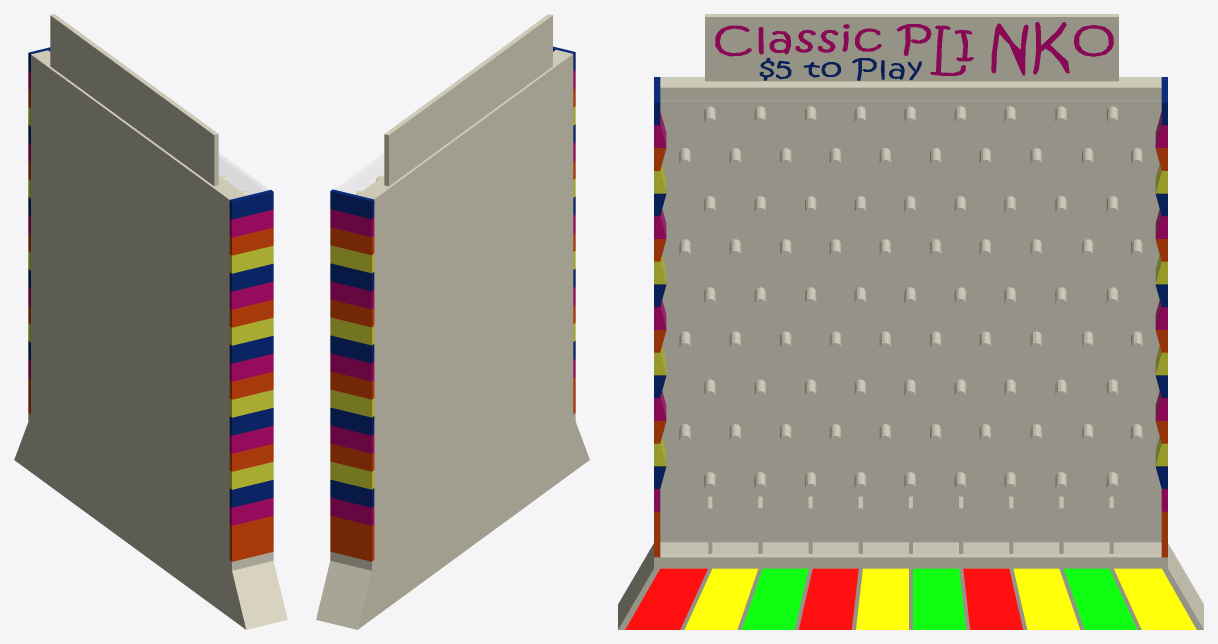
File: PLINKO Board - Battle.glb
3 views of the same model, side by side, from view 1: azimuth 30°, elevation 25°; view 2: azimuth 150°, elevation 25°; view 3: azimuth 270°, elevation 25° (orthographic). The views are drawn at different scales.
Parts seen in each view (by area): view 1: Walls, Sign, Screen; view 2: Walls, Sign, Screen; view 3: Walls, Screen, Sign, Pegs, Text.002.
Part boxes in pixels (x1=…): Walls: x1=14, y1=47, x2=287, y2=629; Sign: x1=50, y1=14, x2=218, y2=186; Screen: x1=219, y1=153, x2=268, y2=194; Walls: x1=316, y1=46, x2=589, y2=629; Sign: x1=384, y1=14, x2=552, y2=186; Screen: x1=335, y1=154, x2=383, y2=193; Walls: x1=618, y1=77, x2=1203, y2=629; Screen: x1=661, y1=100, x2=1160, y2=555; Sign: x1=705, y1=14, x2=1118, y2=81; Pegs: x1=679, y1=106, x2=1142, y2=494; Text.002: x1=715, y1=22, x2=1113, y2=80.
Size of the model in its own units: 0.7353 by 7.94 by 7.12.
